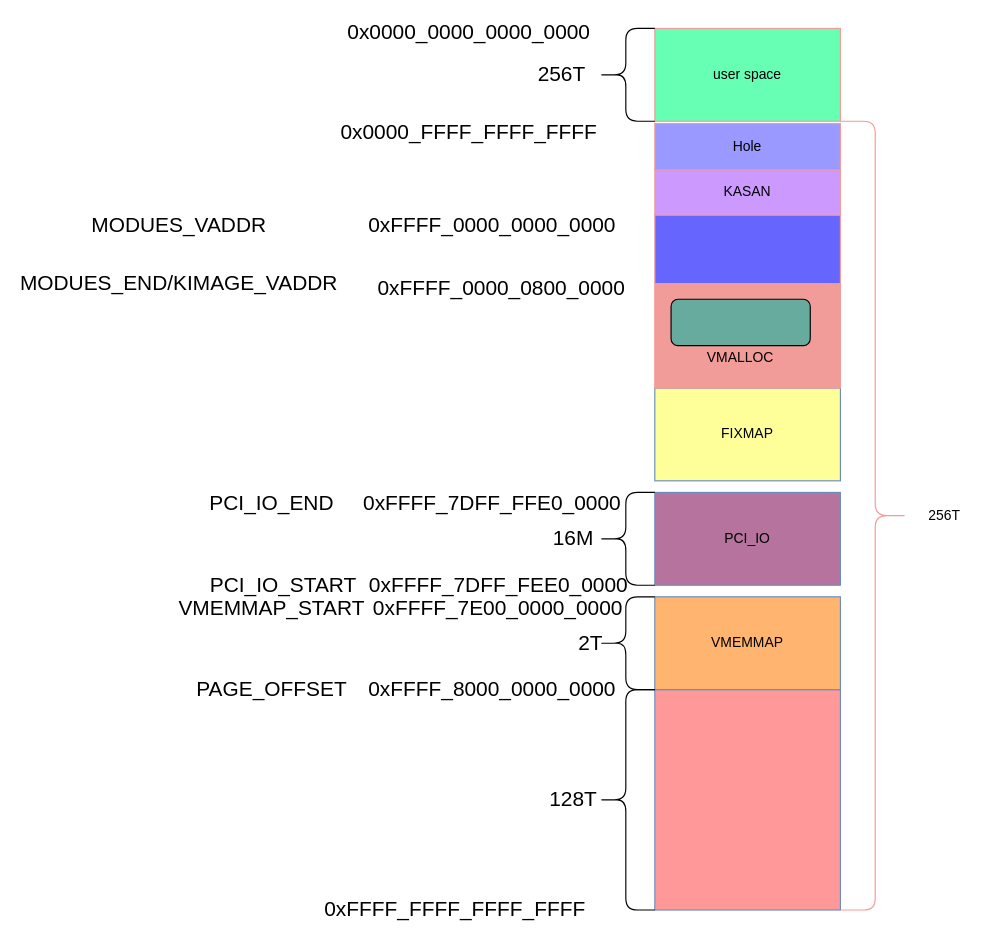
The diagram is 987 pixels wide and 942 high, and some of its shapes have lost their labels. The shapes that lost their labels are listed below. From the top down, each one's centre as x and y in pixels, then its label:
pixel 747 248: MODULE
pixel 740 322: KERNEL
pixel 747 799: linear mapping
